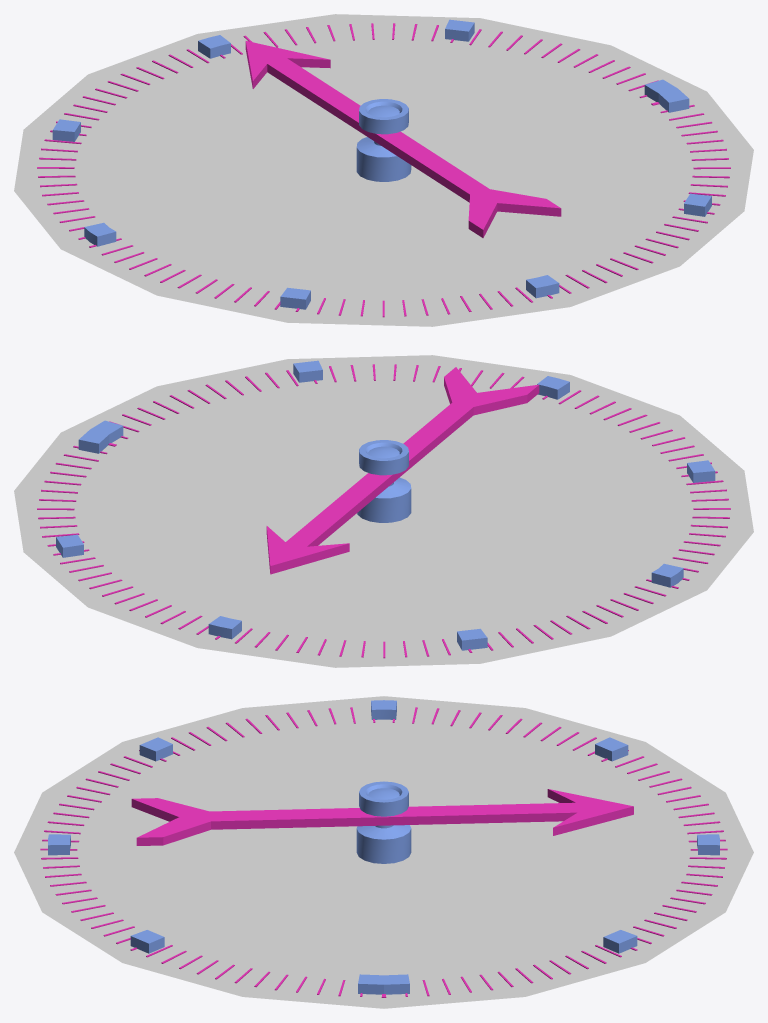
Rendered from compass.gltf.
The picture shows the model from 3 angles, top to bottom: view 1: azimuth 30°, elevation 25°; view 2: azimuth 150°, elevation 25°; view 3: azimuth 270°, elevation 25°; orthographic projection.
Visible parts, largest first — view 1: Bg, Extrude, Axis, Cube 6, Cube 2, Cube 4, Cube 8, Cube 5, Cube 1, Cube 3, Cube 7; view 2: Bg, Extrude, Axis, Cube 2, Cube 4, Cube 0, Cube 6, Cube 3, Cube 7, Cube 5, Cube 1; view 3: Bg, Extrude, Axis, Cube 1, Cube 7, Cube 3, Cube 5.
Part boxes in pixels (left/top/right/bottom): Bg: left=14, top=14, right=753, bottom=326; Extrude: left=245, top=41, right=561, bottom=237; Axis: left=356, top=99, right=411, bottom=181; Cube 6: left=526, top=275, right=559, bottom=298; Cube 2: left=198, top=35, right=230, bottom=58; Cube 4: left=84, top=222, right=116, bottom=246; Cube 8: left=658, top=88, right=689, bottom=112; Cube 5: left=280, top=287, right=310, bottom=309; Cube 1: left=445, top=19, right=474, bottom=41; Cube 3: left=52, top=119, right=80, bottom=141; Cube 7: left=684, top=193, right=711, bottom=216; Bg: left=14, top=355, right=753, bottom=667; Extrude: left=266, top=367, right=539, bottom=574; Axis: left=357, top=440, right=411, bottom=522; Cube 2: left=208, top=616, right=241, bottom=639; Cube 4: left=651, top=563, right=683, bottom=587; Cube 0: left=78, top=429, right=109, bottom=453; Cube 6: left=537, top=376, right=569, bottom=399; Cube 3: left=457, top=628, right=487, bottom=650; Cube 7: left=293, top=360, right=322, bottom=382; Cube 5: left=687, top=460, right=715, bottom=482; Cube 1: left=56, top=534, right=83, bottom=557; Bg: left=14, top=696, right=753, bottom=1008; Extrude: left=131, top=789, right=633, bottom=845; Axis: left=356, top=781, right=411, bottom=863; Cube 1: left=603, top=930, right=637, bottom=953; Cube 7: left=130, top=930, right=164, bottom=953; Cube 3: left=595, top=737, right=628, bottom=761; Cube 5: left=139, top=737, right=172, bottom=761.
Bounding box in the file's own units: 200 × 21.04 × 200.
